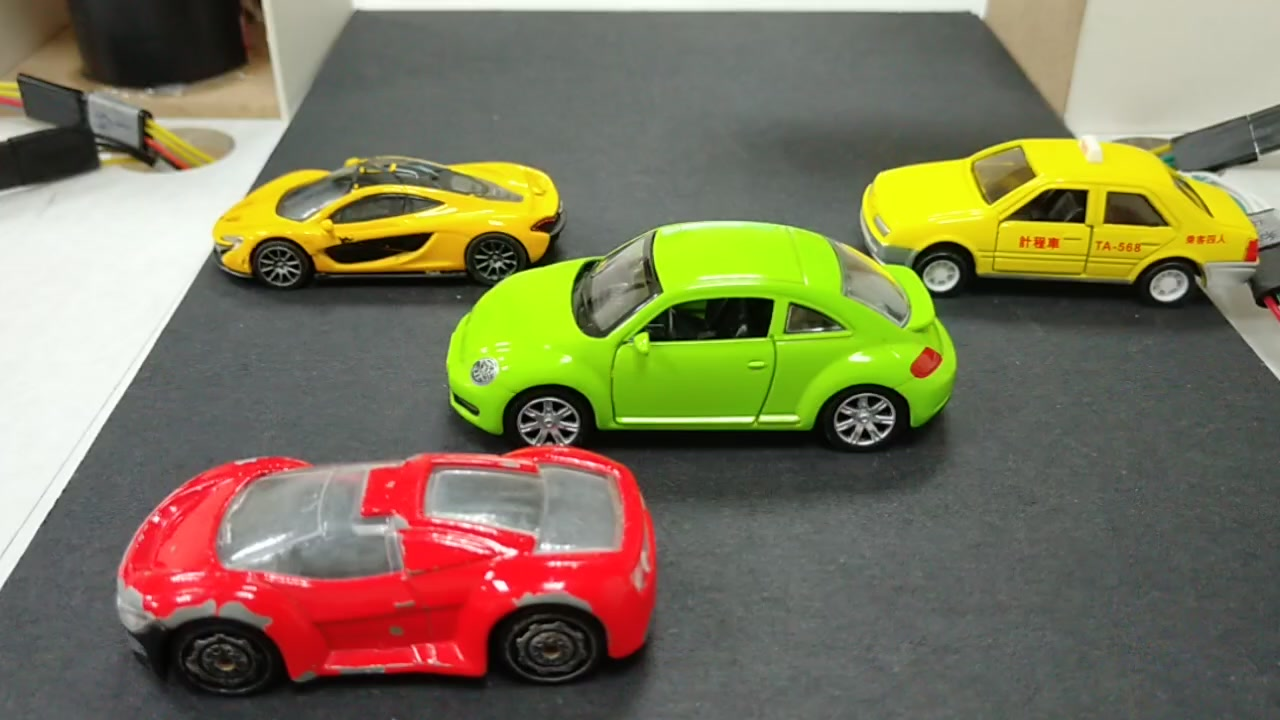car: (122, 459, 651, 692), (463, 229, 956, 456), (847, 139, 1260, 296), (214, 164, 555, 283)
